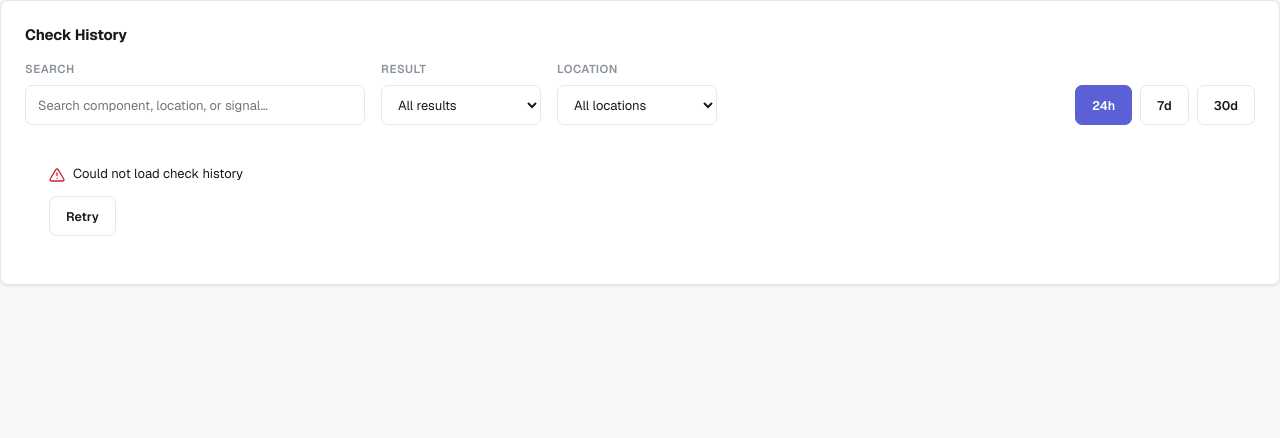
it: CheckHistoryPage › shows the shared ErrorState on a topology-fetch failure, then recovers via retry (AC4)
Check: the message reads "Could not load check history", box [73,165,243,182]
Click the button "Retry" at (82, 216), box [49,196,116,236]
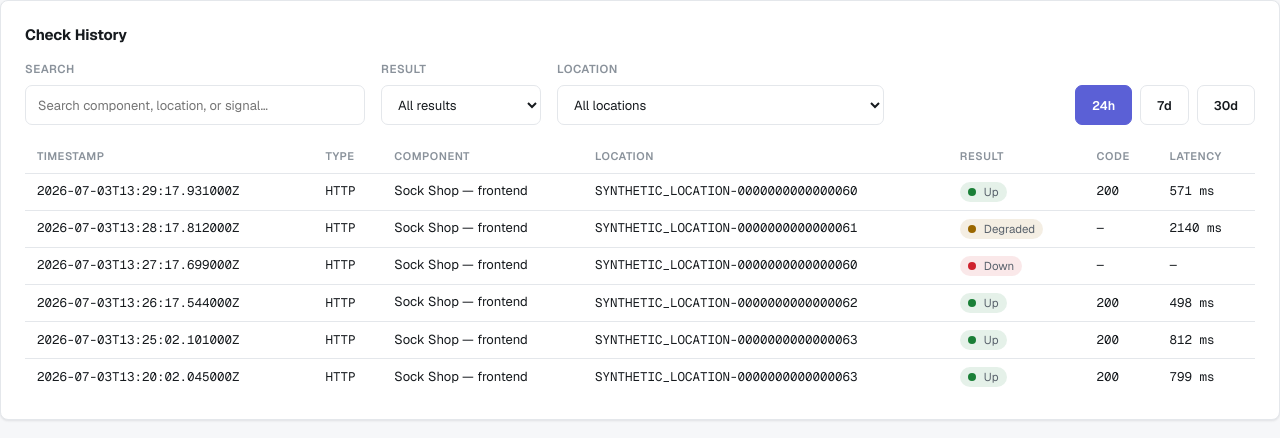
Check: the table is shown, box [25,141,1255,395]
